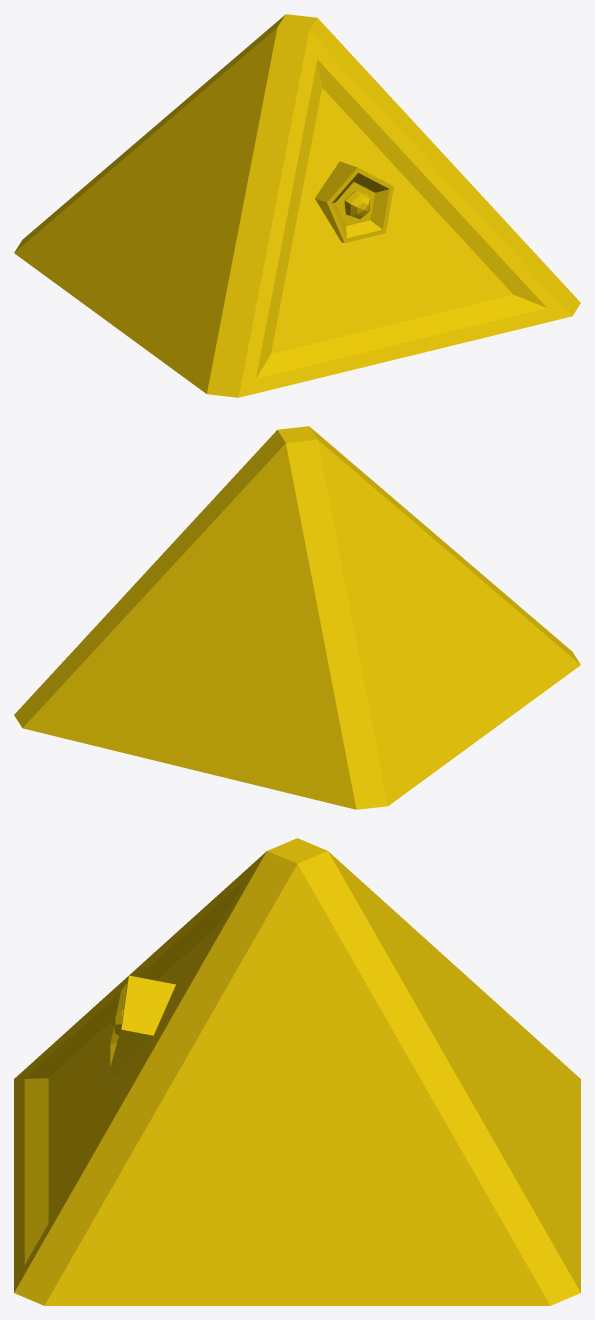
Rendered from triangle enemy 1.fbx.
The picture shows the model from 3 angles, top to bottom: view 1: azimuth 30°, elevation 25°; view 2: azimuth 150°, elevation 25°; view 3: azimuth 270°, elevation 25°; orthographic projection. The views are drawn at different scales.
Visible parts, largest first — view 1: Cube; view 2: Cube; view 3: Cube.
Part boxes in pixels (box(x1,y1,x2,y2)): Cube: box(14, 14, 580, 397); Cube: box(14, 426, 580, 809); Cube: box(14, 838, 580, 1305).
Size of the model in its own units: 231 by 166 by 231.
